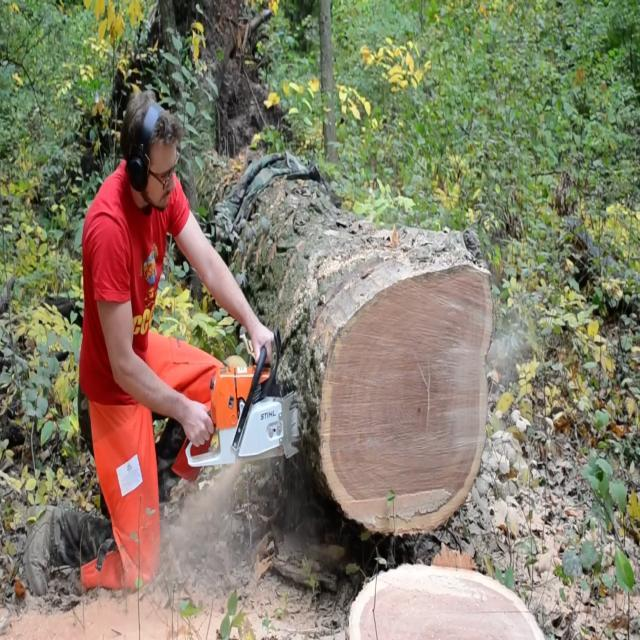Chainsaw: (173, 329, 322, 480)
